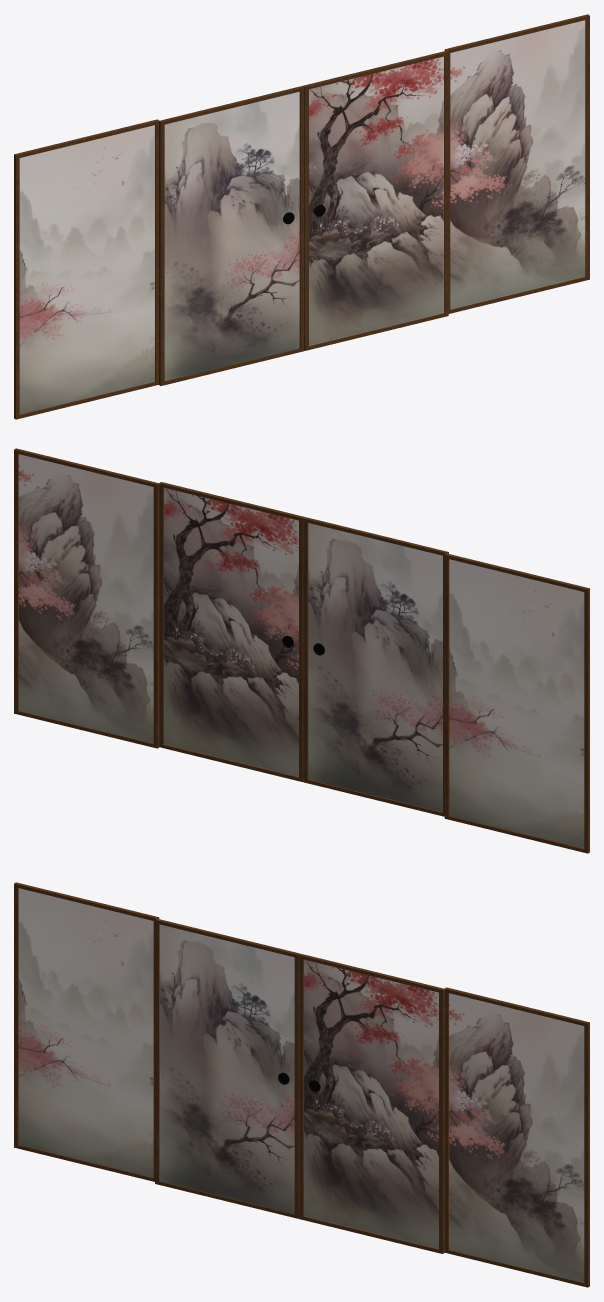
File: Shoji_Door_Z.fbx
3 renders of one model, top to bottom at view 1: azimuth 30°, elevation 25°; view 2: azimuth 150°, elevation 25°; view 3: azimuth 330°, elevation 25°, orthographic.
Visible parts, largest first — view 1: Shoji Door 2Z_LOD0, Shoji Door 1Z_LOD0, Shoji Door 4Z, Shoji Door 3Z; view 2: Shoji Door 3Z, Shoji Door 4Z, Shoji Door 1Z_LOD0, Shoji Door 2Z_LOD0; view 3: Shoji Door 3Z, Shoji Door 1Z_LOD0, Shoji Door 2Z_LOD0, Shoji Door 4Z.
Part boxes in pixels (x1,y1,x2,y2): Shoji Door 2Z_LOD0: [159, 86, 304, 385]; Shoji Door 1Z_LOD0: [303, 50, 448, 350]; Shoji Door 4Z: [14, 119, 158, 419]; Shoji Door 3Z: [444, 14, 589, 313]; Shoji Door 3Z: [14, 448, 159, 748]; Shoji Door 4Z: [444, 553, 589, 853]; Shoji Door 1Z_LOD0: [159, 482, 304, 781]; Shoji Door 2Z_LOD0: [303, 517, 448, 816]; Shoji Door 3Z: [444, 987, 589, 1287]; Shoji Door 1Z_LOD0: [299, 954, 444, 1253]; Shoji Door 2Z_LOD0: [155, 918, 300, 1218]; Shoji Door 4Z: [14, 882, 159, 1181].
Size of what is drawn, in the model's own units: 517 by 227 by 6.
